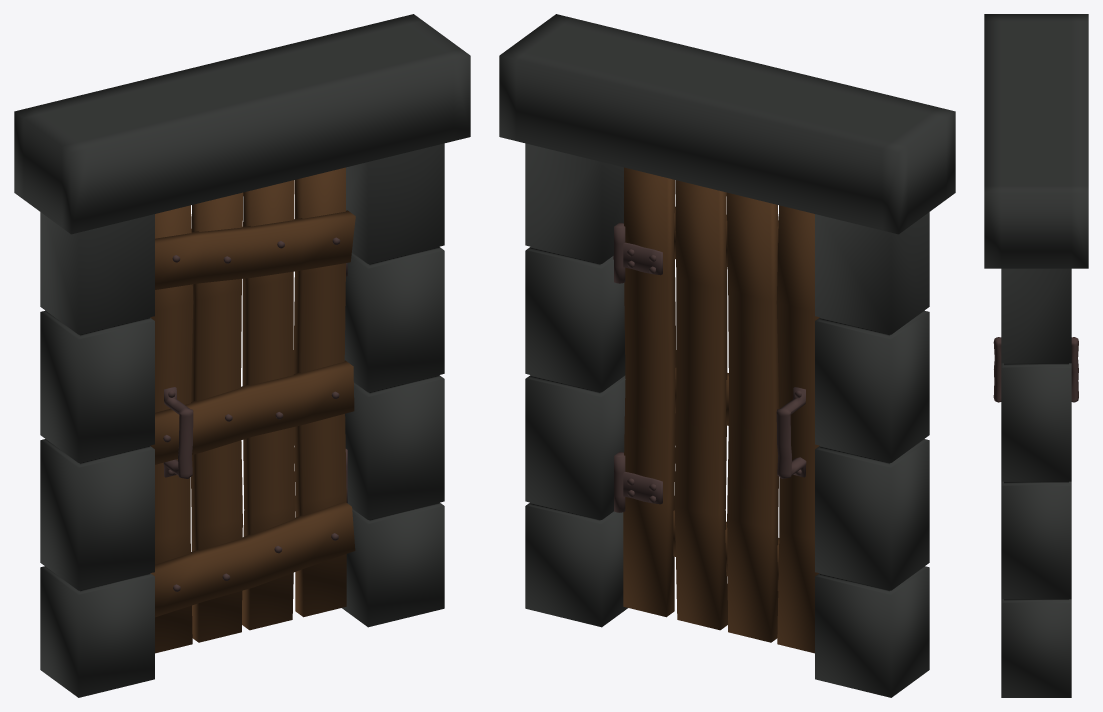
The model's file is Door01.fbx.
3 renders of one model, left to right at view 1: azimuth 30°, elevation 25°; view 2: azimuth 150°, elevation 25°; view 3: azimuth 270°, elevation 25°, orthographic. The views are drawn at different scales.
Visible parts, largest first — view 1: Doorway, Door; view 2: Doorway, Door; view 3: Doorway, Door.
Boxes of the visible parts, left/top/right/bottom form: Doorway: left=14, top=14, right=470, bottom=697; Door: left=150, top=167, right=355, bottom=653; Doorway: left=499, top=14, right=955, bottom=697; Door: left=613, top=167, right=819, bottom=653; Doorway: left=984, top=14, right=1088, bottom=697; Door: left=993, top=337, right=1078, bottom=402.
Size of the model in its own units: 1.68 by 2.24 by 0.4136.
